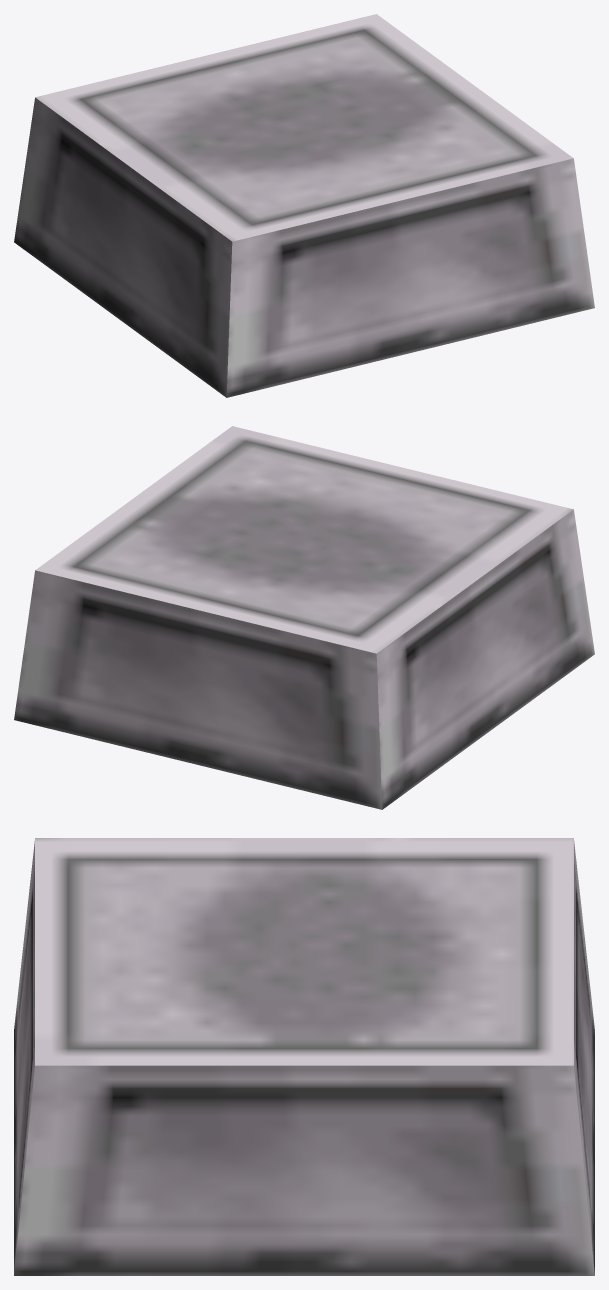
File: sentinel_base_base.glb
3 renders of one model, top to bottom at view 1: azimuth 30°, elevation 25°; view 2: azimuth 150°, elevation 25°; view 3: azimuth 270°, elevation 25°, orthographic. The views are drawn at different scales.
Visible parts, largest first — view 1: MeshRoot; view 2: MeshRoot; view 3: MeshRoot.
Part boxes in pixels (x1=…): MeshRoot: x1=14, y1=14, x2=594, y2=397; MeshRoot: x1=14, y1=426, x2=594, y2=809; MeshRoot: x1=14, y1=838, x2=594, y2=1275.
Size of the model in its own units: 1.83 by 0.6987 by 1.83.
Materials: 1 (1 with a texture image).
